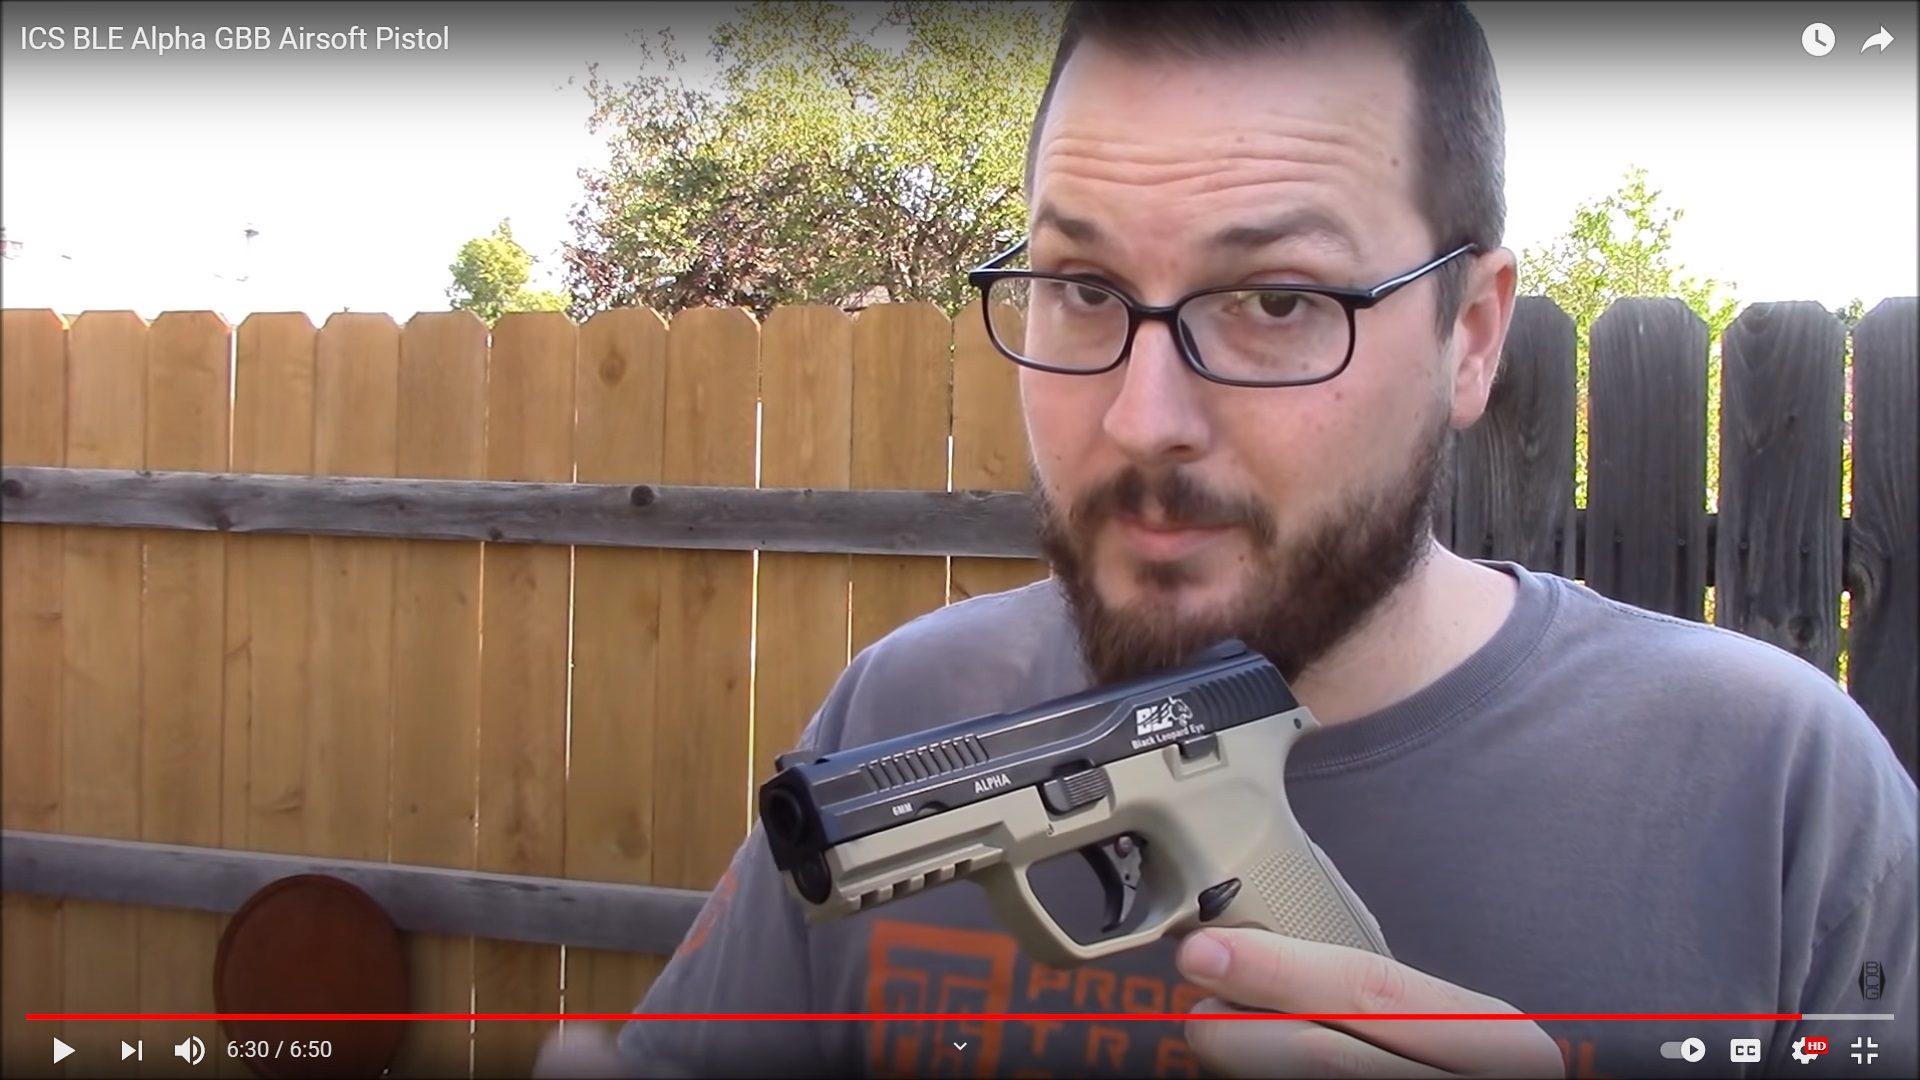asg_ics_ble_xae: (705, 632, 1402, 992)
